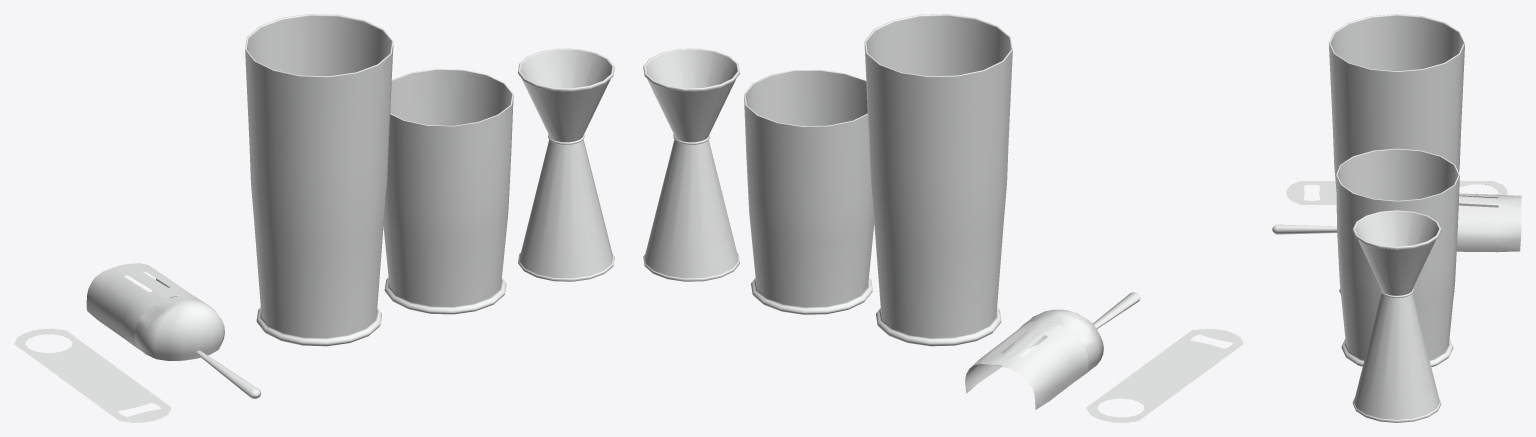
The model's file is Jigger, shaker, opener and ice scoop.fbx.
3 views of the same model, side by side, from view 1: azimuth 30°, elevation 25°; view 2: azimuth 150°, elevation 25°; view 3: azimuth 270°, elevation 25° (orthographic). The views are drawn at different scales.
Parts seen in each view (by area): view 1: Shaker, Shaker1, Jigger, ice_scoop, opener; view 2: Shaker, Shaker1, Jigger, ice_scoop, opener; view 3: Shaker, Shaker1, Jigger, ice_scoop, opener.
Boxes of the visible parts, bbox=[...] form: Shaker: bbox=[245, 14, 393, 346]; Shaker1: bbox=[383, 69, 513, 314]; Jigger: bbox=[518, 48, 614, 281]; ice_scoop: bbox=[86, 263, 261, 398]; opener: bbox=[14, 328, 171, 422]; Shaker: bbox=[864, 14, 1012, 346]; Shaker1: bbox=[744, 70, 874, 314]; Jigger: bbox=[643, 48, 739, 281]; ice_scoop: bbox=[965, 292, 1140, 409]; opener: bbox=[1086, 328, 1243, 422]; Shaker: bbox=[1329, 14, 1464, 294]; Shaker1: bbox=[1336, 148, 1459, 366]; Jigger: bbox=[1352, 210, 1441, 422]; ice_scoop: bbox=[1272, 193, 1521, 252]; opener: bbox=[1286, 181, 1507, 204].
Bounding box in the file's own units: 41.11 × 20.06 × 18.
1 material, 1 textured.
